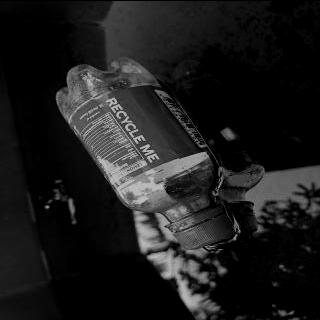bottle: (53, 56, 238, 250)
